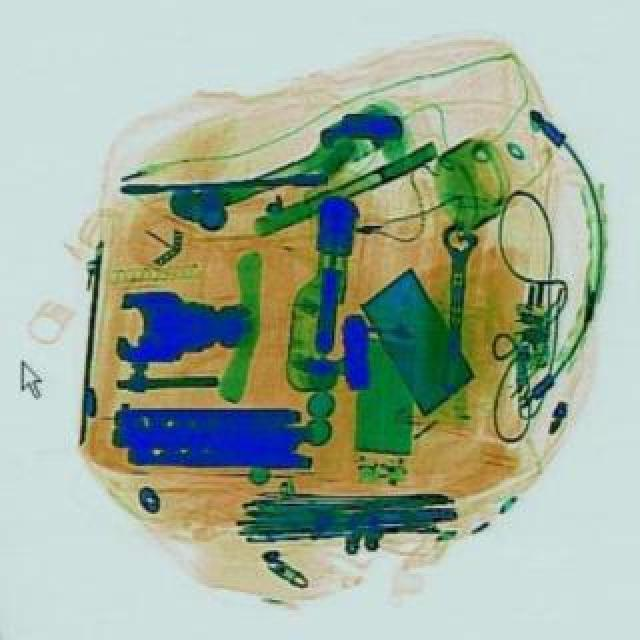scissors: (432, 220, 476, 392)
